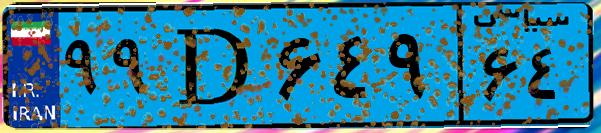4: (330, 28, 385, 110), (525, 38, 570, 115)
6: (270, 28, 330, 110), (475, 38, 525, 113)
9: (385, 28, 445, 110), (57, 26, 110, 100), (110, 28, 158, 98)
D: (158, 12, 270, 120)
